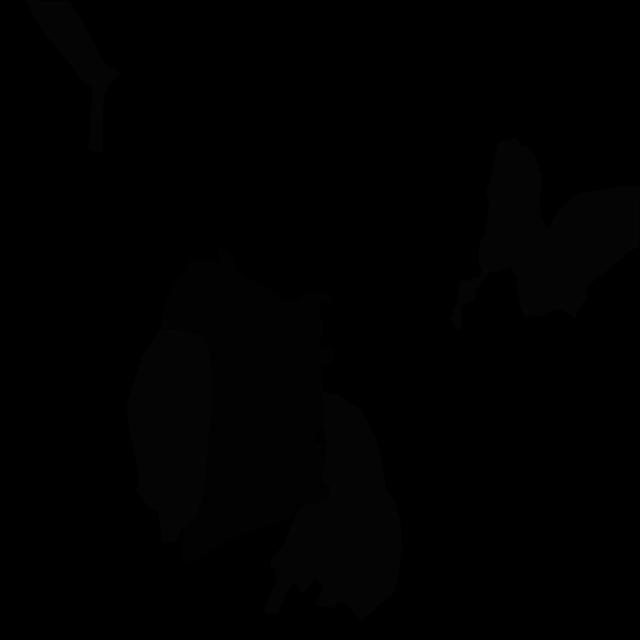cardboard: (160, 246, 333, 563)
soft_plastic: (264, 391, 402, 622), (126, 328, 214, 543), (450, 137, 548, 330), (519, 186, 640, 319), (25, 0, 121, 153)
